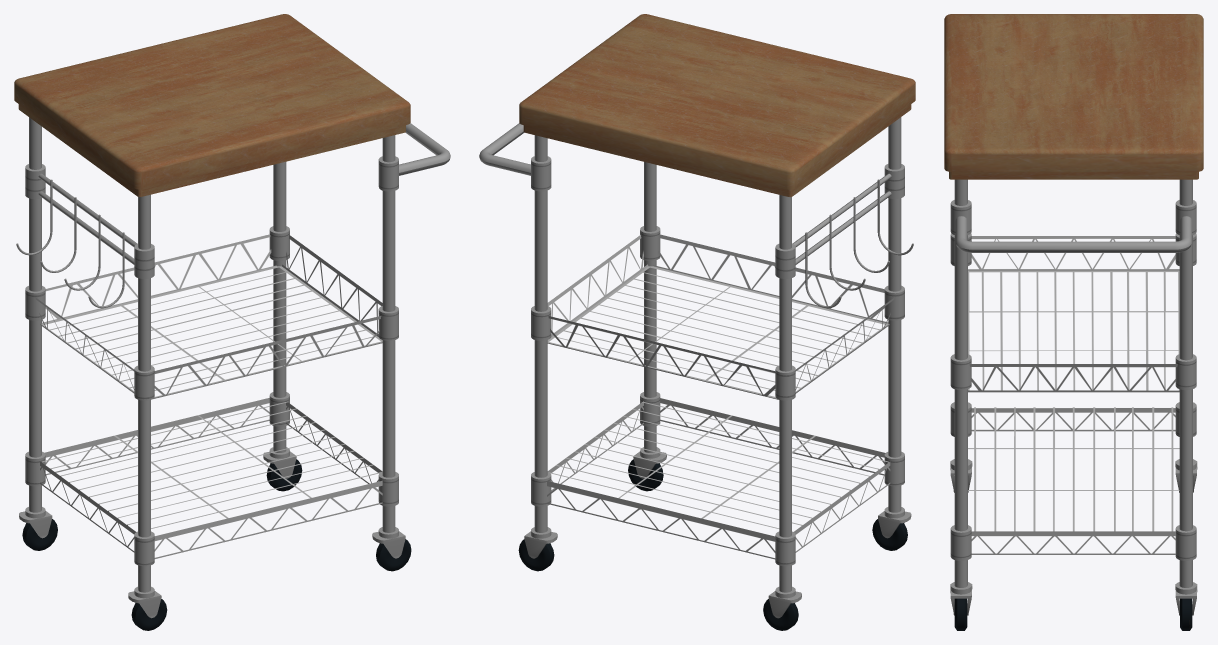
3 views of the same model, side by side, from view 1: azimuth 30°, elevation 25°; view 2: azimuth 150°, elevation 25°; view 3: azimuth 270°, elevation 25° (orthographic). The views are drawn at different scales.
Parts seen in each view (by area): view 1: Carrito_low_Carrito_0, Canasta_low_Canasta_0, Base_low_Base_0; view 2: Carrito_low_Carrito_0, Canasta_low_Canasta_0, Base_low_Base_0; view 3: Carrito_low_Carrito_0, Canasta_low_Canasta_0, Base_low_Base_0.
Part boxes in pixels (<box>): Carrito_low_Carrito_0: <box>14,14,450,630</box>; Canasta_low_Canasta_0: <box>35,234,382,399</box>; Base_low_Base_0: <box>40,398,382,558</box>; Carrito_low_Carrito_0: <box>479,14,915,630</box>; Canasta_low_Canasta_0: <box>547,234,894,399</box>; Base_low_Base_0: <box>547,398,890,559</box>; Carrito_low_Carrito_0: <box>944,14,1203,630</box>; Canasta_low_Canasta_0: <box>968,236,1179,392</box>; Base_low_Base_0: <box>968,407,1179,554</box>.
Bounding box in the file's own units: 0.7941 × 1.03 × 0.4978.
Materials: 3 (3 with a texture image).
